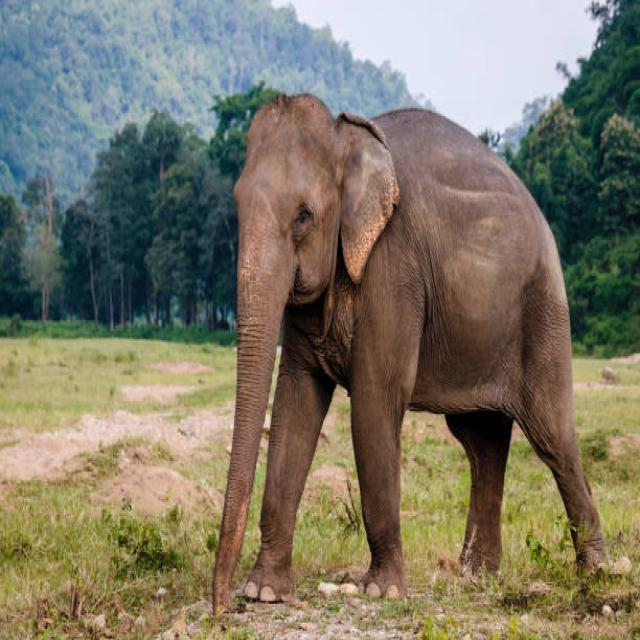Elephant: (208, 79, 606, 612)
